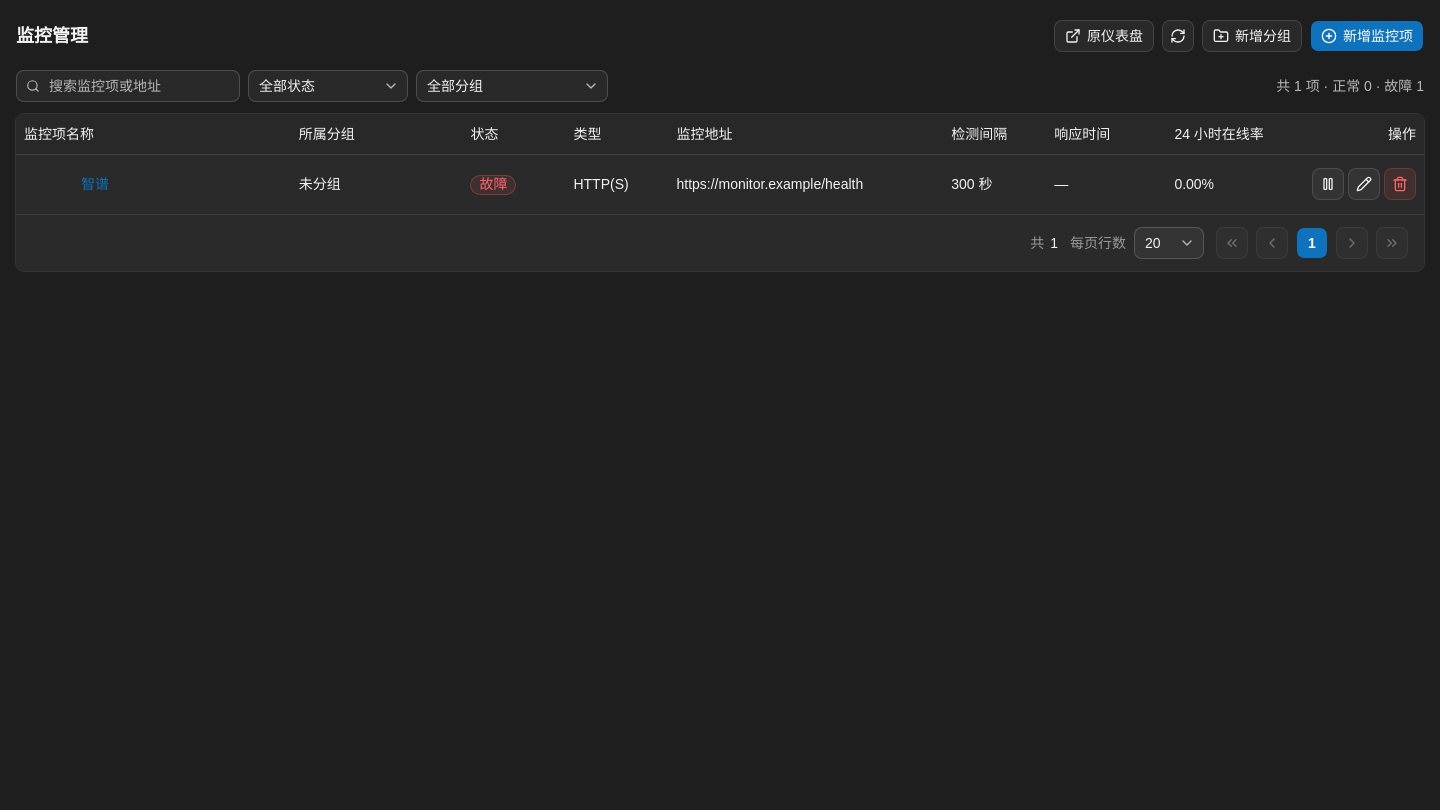
it: monitor 的写入确认取消后关闭窗口并刷新列表，不自动重复提交
Click the button named "暂停": (1328, 184) [1312,168,1344,200]
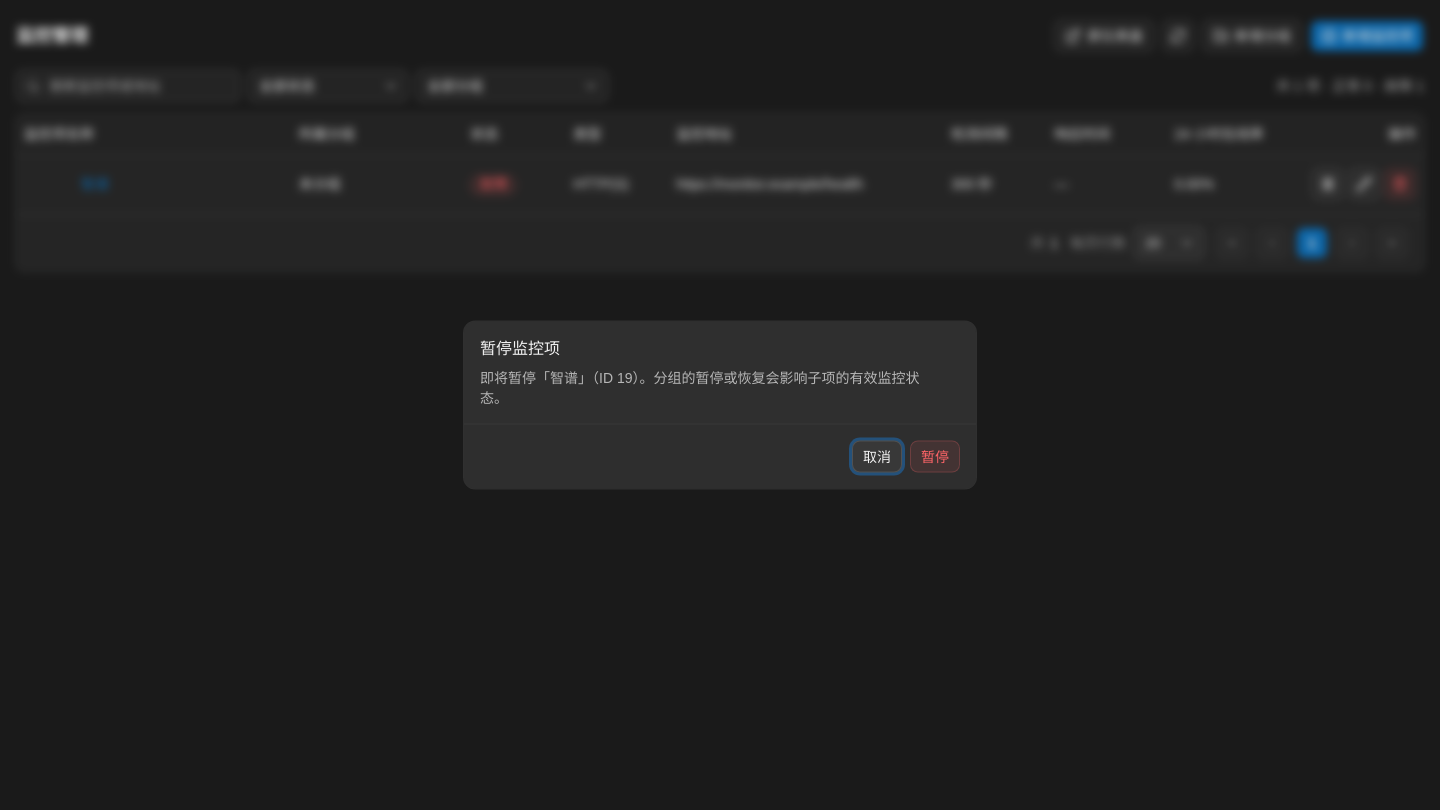
Click the button "暂停": (935, 456) [910,440,960,472]
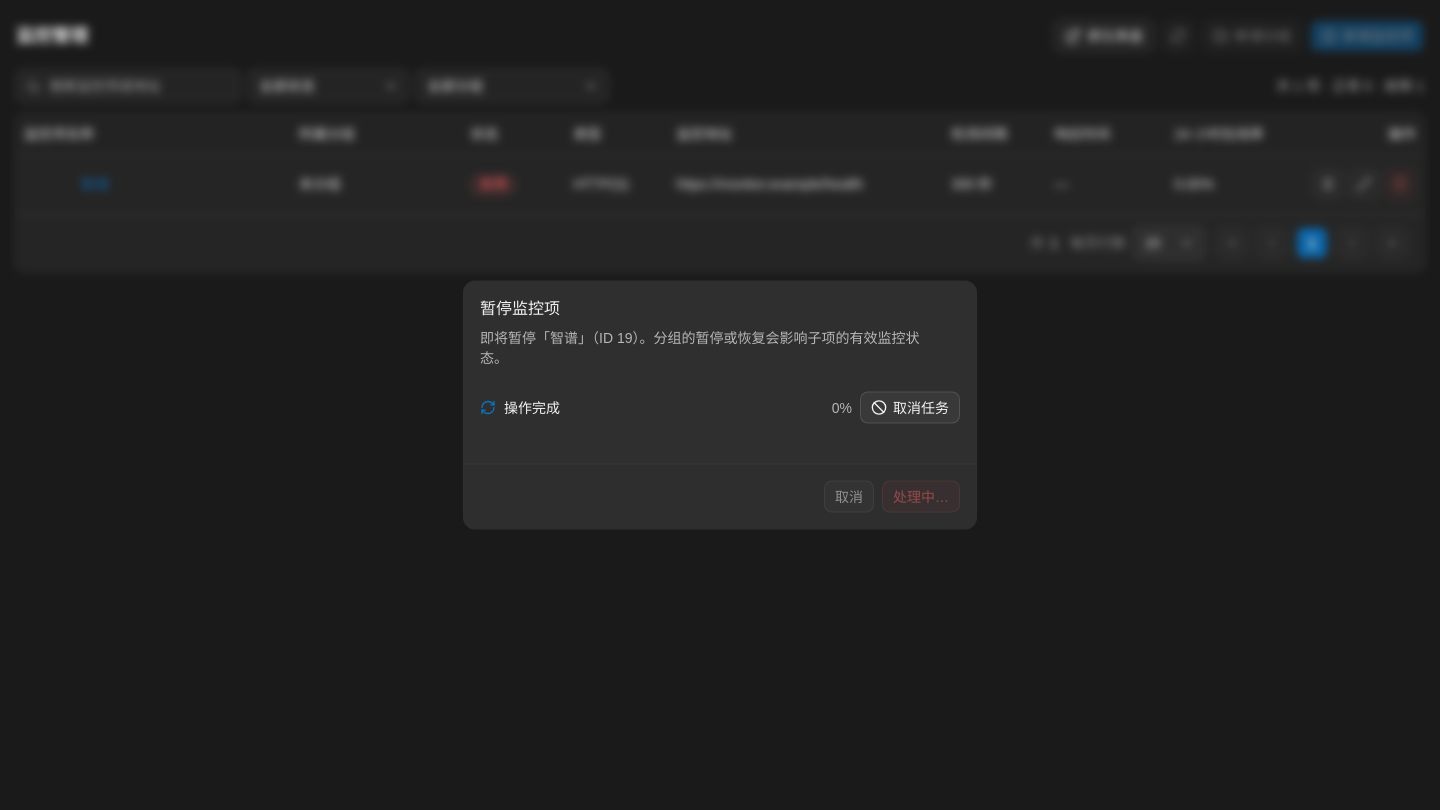
Click the button "取消任务": (910, 408) [860,392,960,424]
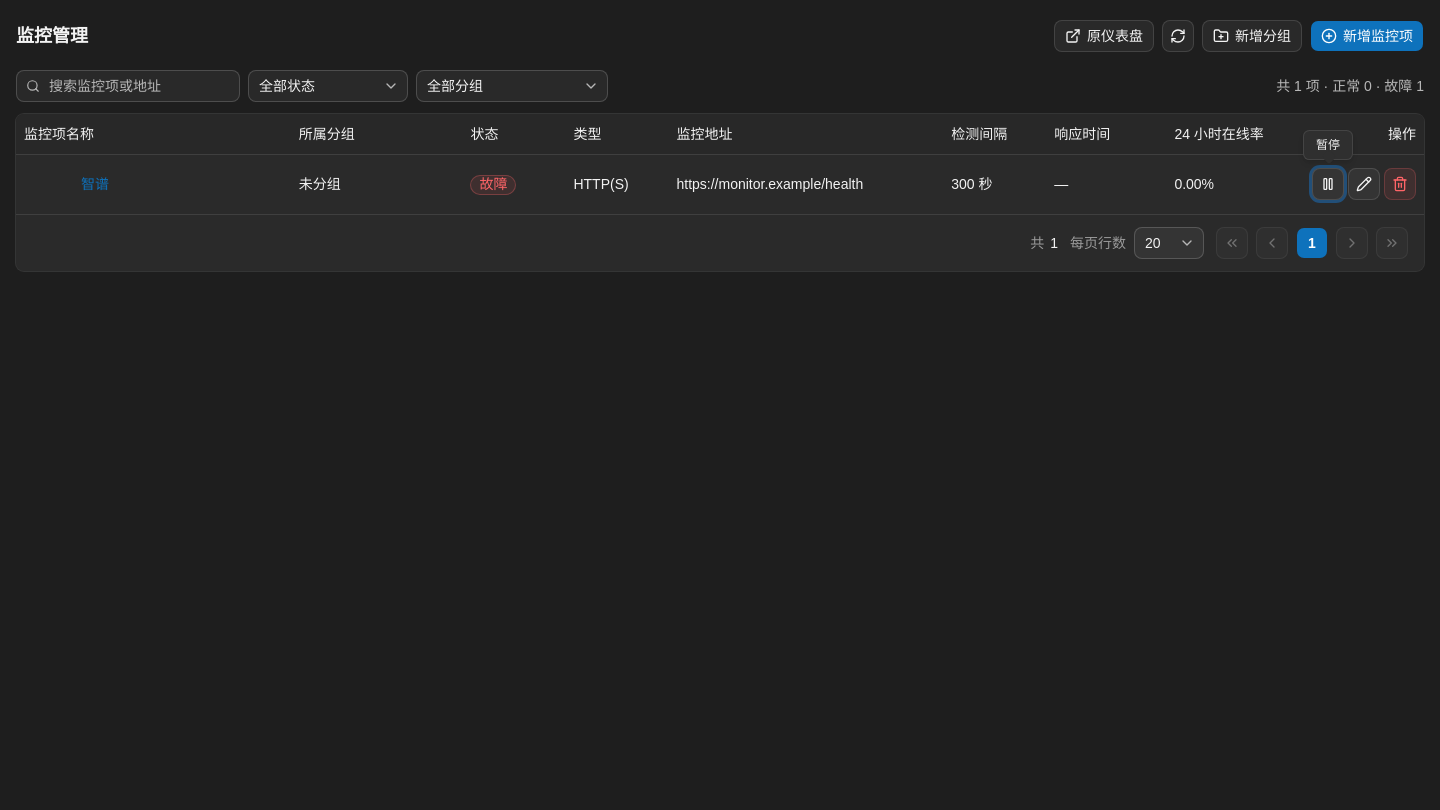
expect the dialog is gone: met
